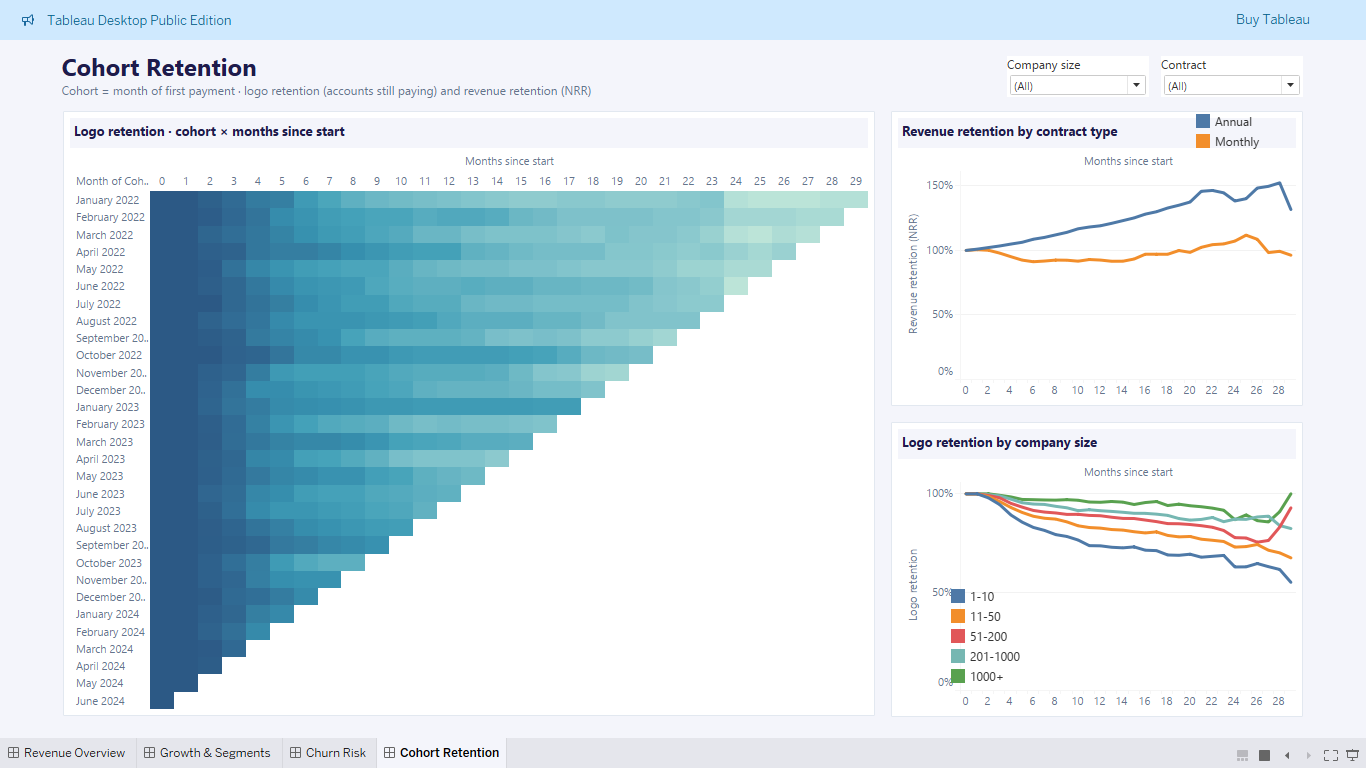

Layout of this report page (visuals, bound fields, positions):
{"tool":"tableau","page":{"name":"Cohort Retention","canvas":[1280,690],"ordinal":2},"visuals":[{"type":"text","box":[16,7.7,900,28.8]},{"type":"filter","title":"Logo retention heatmap","param":"[federated.099af5c965a1666006616d3bce23].[none:company_size:nk]","box":[960,7.7,150,49.8]},{"type":"filter","title":"Logo retention heatmap","param":"[federated.099af5c965a1666006616d3bce23].[none:contract_type:nk]","box":[1114,7.7,150,49.8]},{"type":"text","box":[16,36.4,900,21.1]},{"type":"worksheet","title":"Logo retention heatmap","mark":"Square","rows":["cohort_month"],"cols":["months_since_start"],"box":[16,63.3,820,613.3]},{"type":"worksheet","title":"Revenue retention curve","mark":"Line","rows":["Revenue retention"],"cols":["months_since_start"],"box":[844,63.3,420,302.8]},{"type":"legend","title":"Revenue retention curve","param":"[federated.099af5c965a1666006616d3bce23].[none:contract_type:nk]","box":[1150,67.1,108,47.9]},{"type":"worksheet","title":"Logo retention curve","mark":"Line","rows":["Logo retention"],"cols":["months_since_start"],"box":[844,373.8,420,302.8]},{"type":"legend","title":"Logo retention curve","param":"[federated.099af5c965a1666006616d3bce23].[none:company_size:nk]","box":[905,542.4,96,116.9]}]}

Visuals, with their boxes on the page's 1280x690 design canvas (x1, y1, x2, y2). These are canvas units, not pixel positions in the 1366x768 screenshot, which may show the page scaled, cropped or inside an application window:
text: x1=16, y1=8, x2=916, y2=36
"Logo retention heatmap" filter: x1=960, y1=8, x2=1110, y2=58
"Logo retention heatmap" filter: x1=1114, y1=8, x2=1264, y2=58
text: x1=16, y1=36, x2=916, y2=58
"Logo retention heatmap" worksheet (Square marks): x1=16, y1=63, x2=836, y2=677
"Revenue retention curve" worksheet (Line marks): x1=844, y1=63, x2=1264, y2=366
"Revenue retention curve" legend: x1=1150, y1=67, x2=1258, y2=115
"Logo retention curve" worksheet (Line marks): x1=844, y1=374, x2=1264, y2=677
"Logo retention curve" legend: x1=905, y1=542, x2=1001, y2=659
